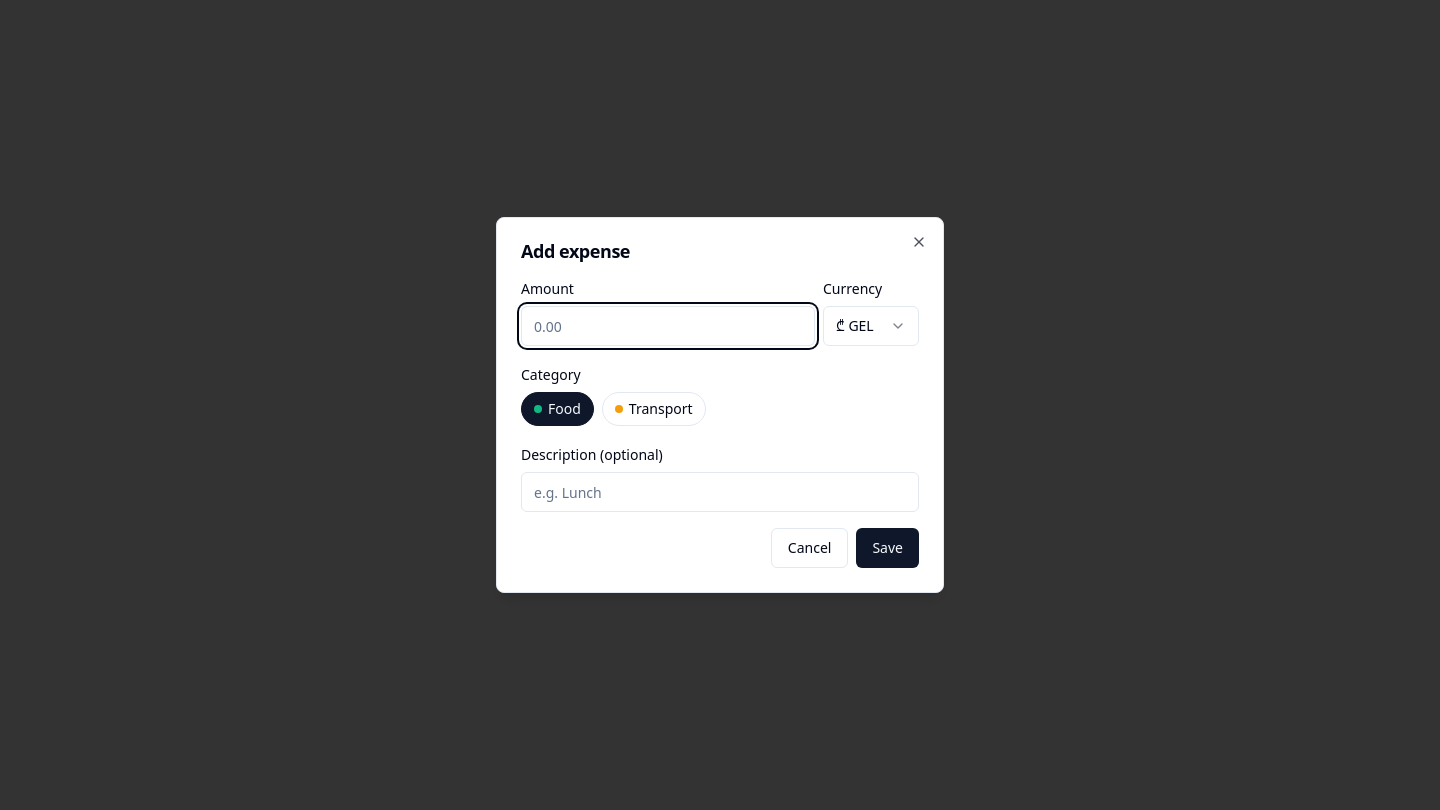
Test: QuickAddExpenseDialog › rejects a non-positive amount
Type "0" into the field labelled "Amount" at (668, 326), box 521,306 -> 815,346
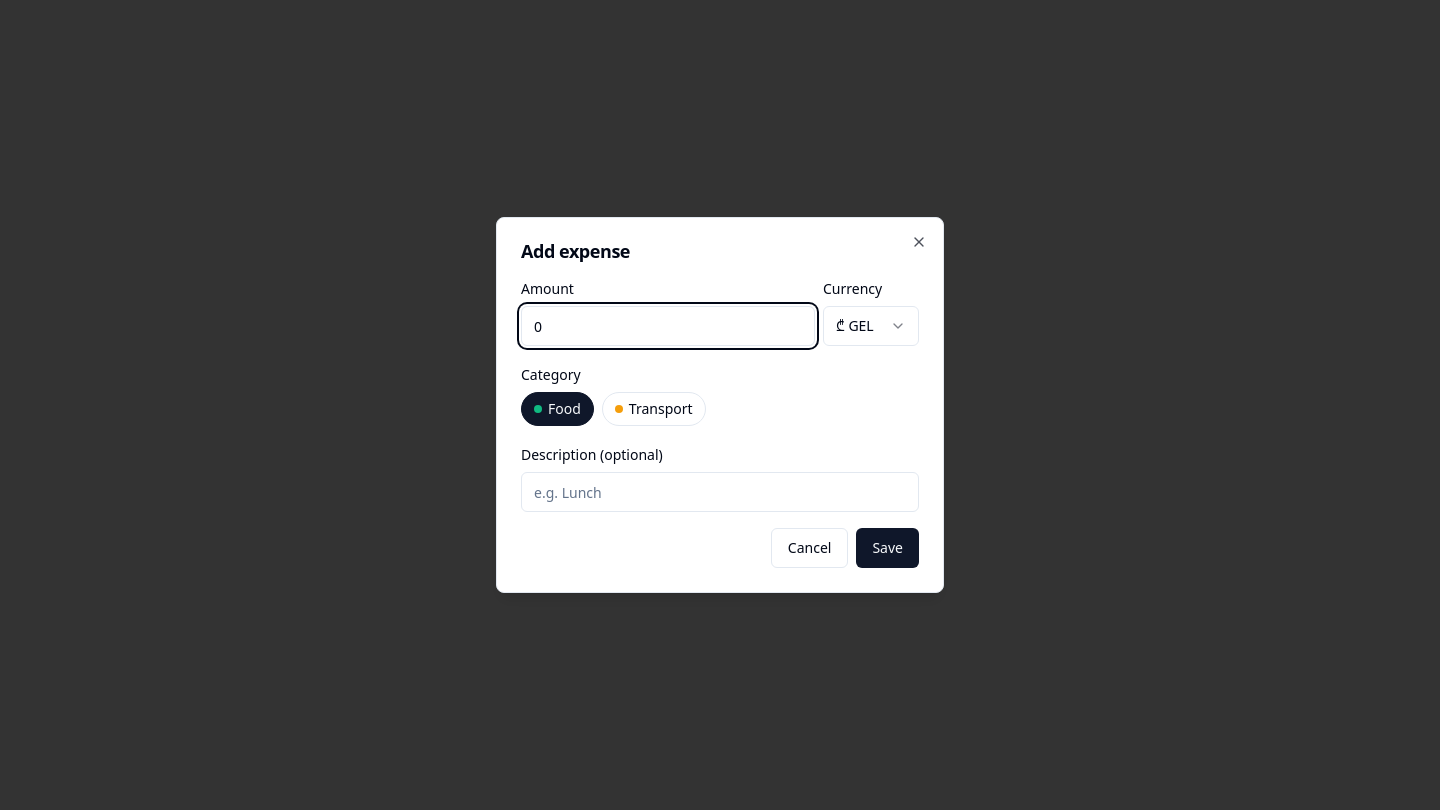
Click the button "Save" at (888, 548), box 856,528 -> 919,568
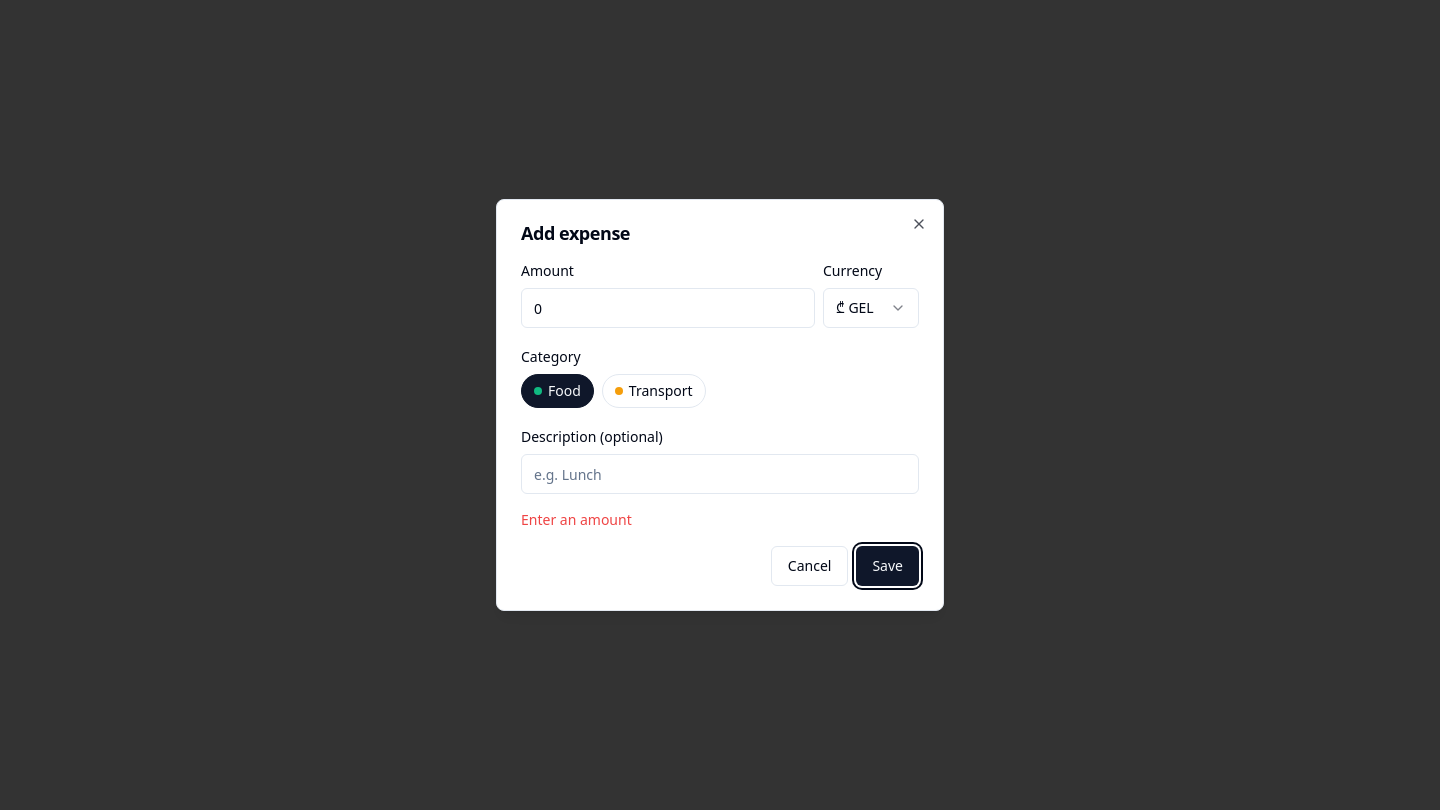
Check: the message "Enter an amount" is shown, box 521,510 -> 632,529
